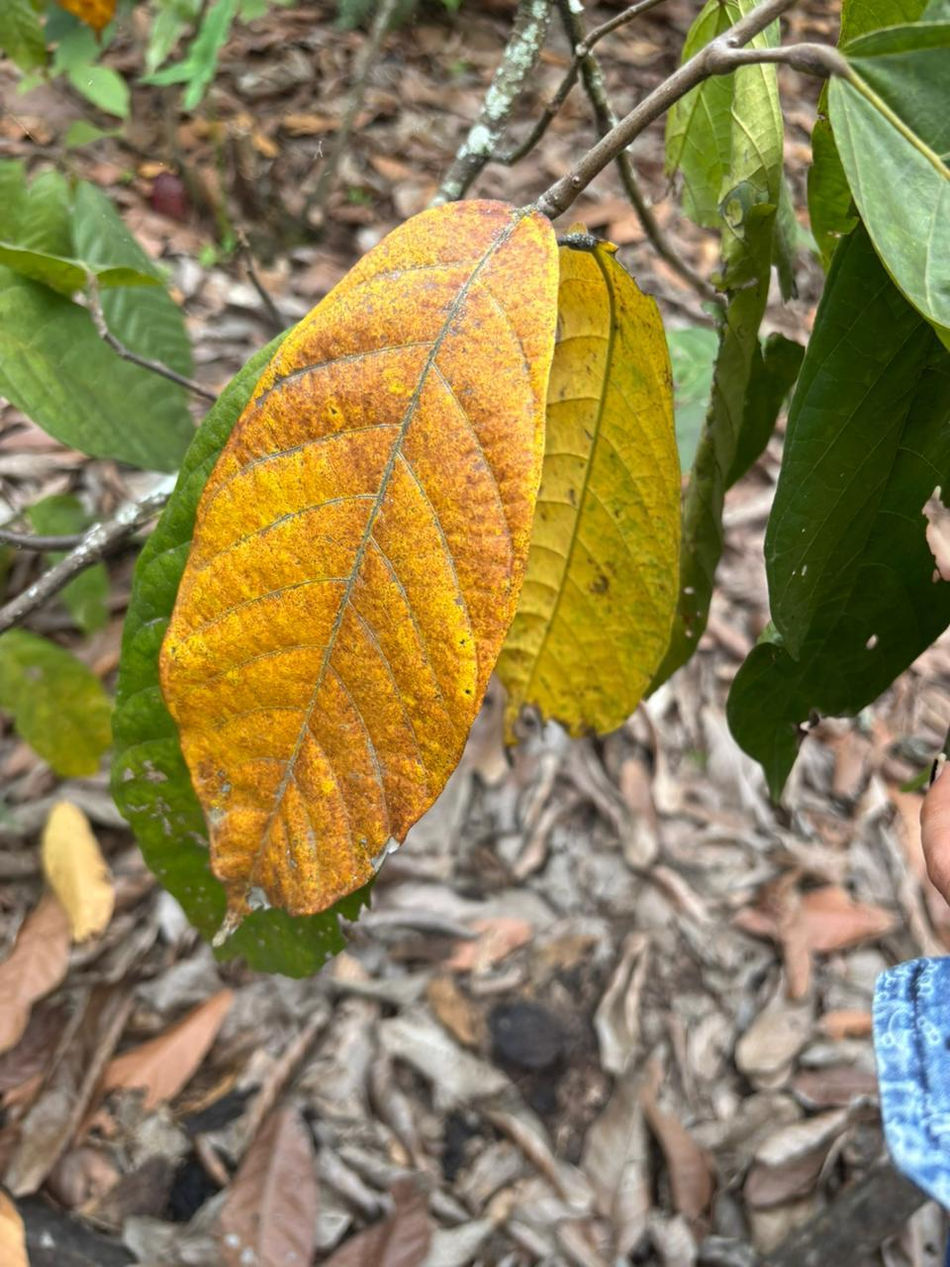deficienciia_fosforo: (159, 201, 556, 929)
